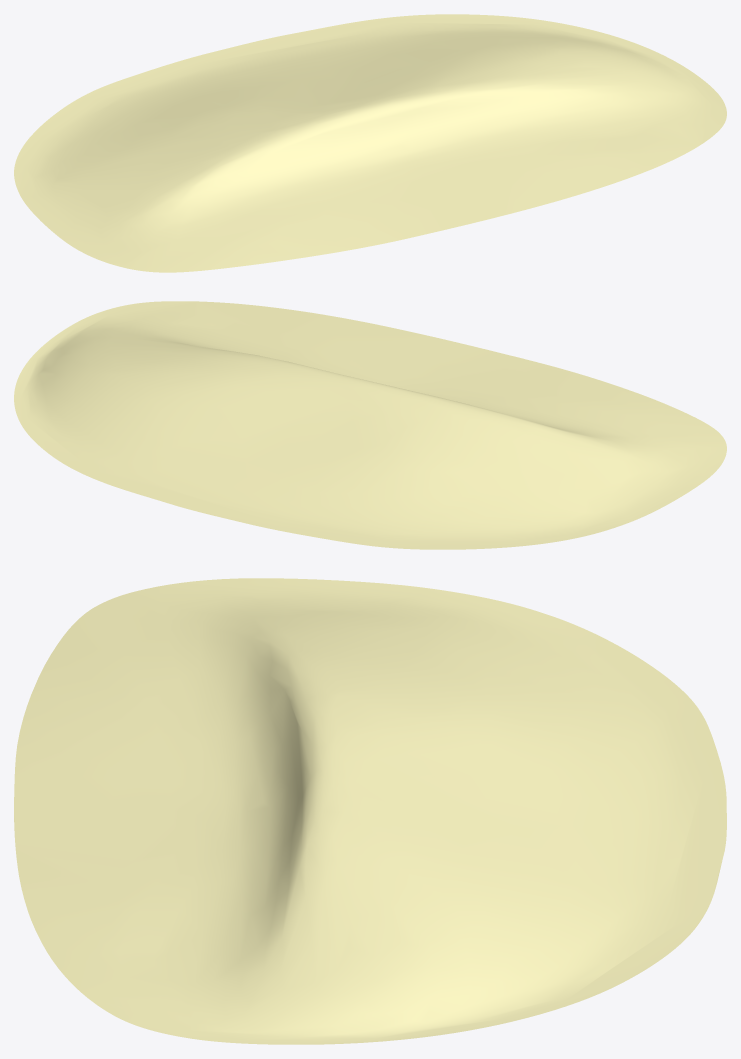
Rendered from Sand_004.glb.
3 renders of one model, top to bottom at view 1: azimuth 30°, elevation 25°; view 2: azimuth 150°, elevation 25°; view 3: azimuth 270°, elevation 25°, orthographic. The views are drawn at different scales.
Visible parts, largest first — view 1: Sand_004; view 2: Sand_004; view 3: Sand_004.
Part boxes in pixels (bbox=[...]): Sand_004: bbox=[14, 14, 726, 272]; Sand_004: bbox=[14, 301, 726, 549]; Sand_004: bbox=[14, 578, 726, 1044].
Size of the model in its own units: 7.98 by 0.4729 by 5.16.
Materials: 1 (1 with a texture image).
